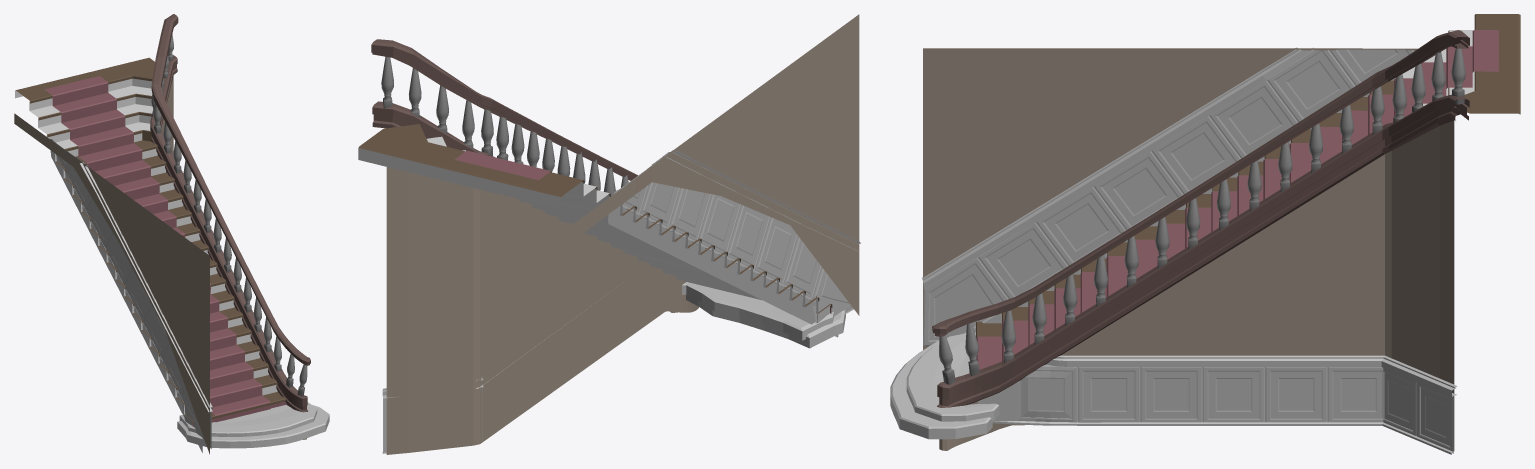
File: StairsDouble2.fbx
3 renders of one model, left to right at view 1: azimuth 30°, elevation 25°; view 2: azimuth 150°, elevation 25°; view 3: azimuth 270°, elevation 25°, orthographic. The views are drawn at different scales.
Parts seen in each view (by area): view 1: StairsDouble.001; view 2: StairsDouble.001; view 3: StairsDouble.001.
Boxes of the visible parts, left/top/right/bottom form: StairsDouble.001: left=14, top=14, right=329, bottom=454; StairsDouble.001: left=358, top=14, right=860, bottom=454; StairsDouble.001: left=890, top=14, right=1520, bottom=454.
Size of the model in its own units: 3.81 by 7.12 by 9.17.
